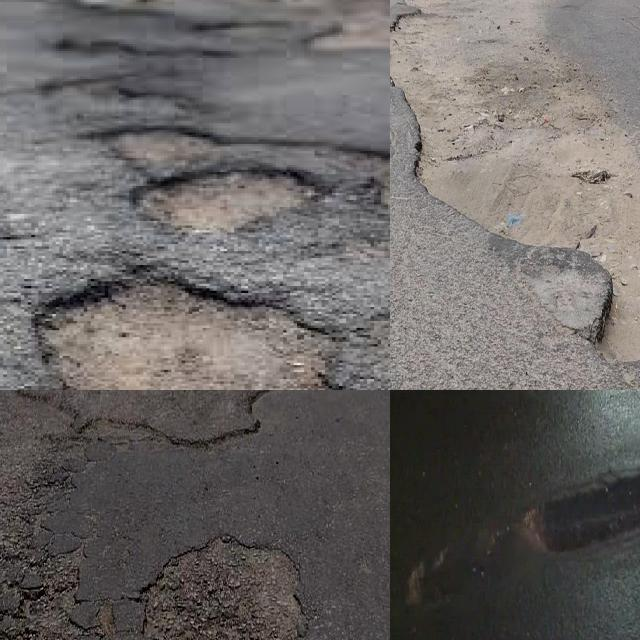Pothole: (52, 286, 329, 390), (119, 132, 390, 230), (147, 537, 299, 640), (523, 469, 640, 552), (412, 125, 482, 222), (406, 545, 488, 610), (593, 259, 640, 368), (390, 28, 428, 115), (395, 9, 419, 30)
